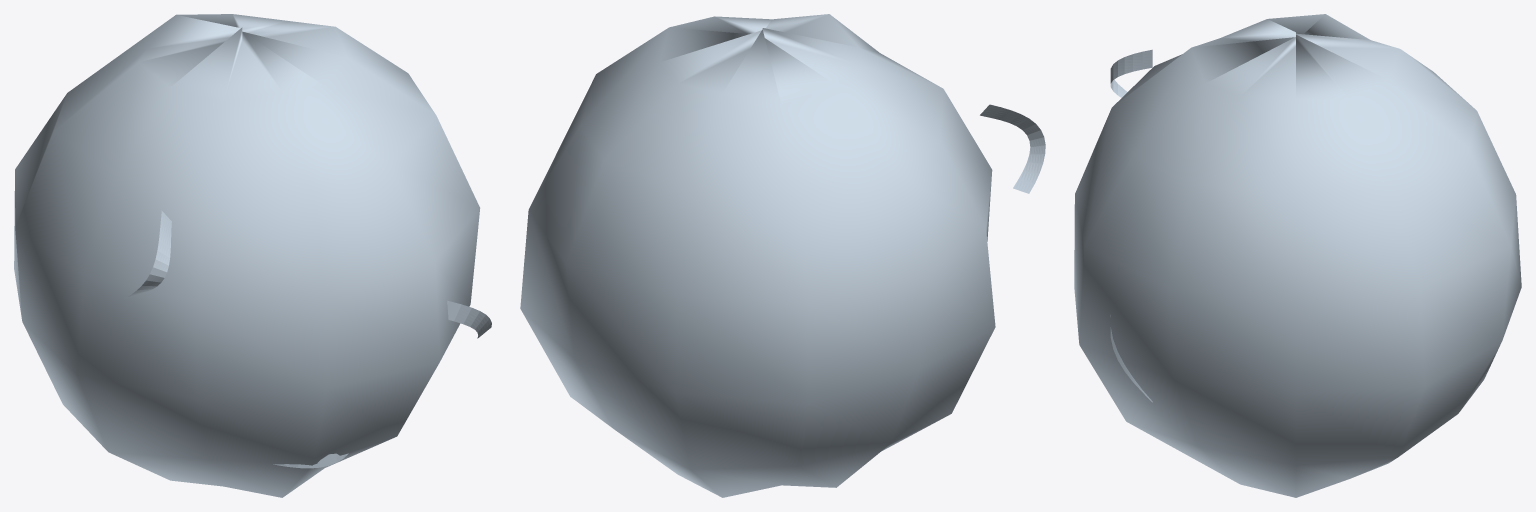
Rendered from 2033_FrostCannon_Projectile.fbx.
The picture shows the model from 3 angles, left to right: view 1: azimuth 30°, elevation 25°; view 2: azimuth 150°, elevation 25°; view 3: azimuth 270°, elevation 25°; orthographic projection. The views are drawn at different scales.
Parts seen in each view (by area): view 1: PART_FrostCannonRoundedFacetedIce, PART_FrostCannonColdEdge1, PART_FrostCannonColdEdge0; view 2: PART_FrostCannonRoundedFacetedIce, PART_FrostCannonColdEdge1; view 3: PART_FrostCannonRoundedFacetedIce, PART_FrostCannonColdEdge1.
Boxes of the visible parts, <box> form: PART_FrostCannonRoundedFacetedIce: <box>14,14,480,497</box>; PART_FrostCannonColdEdge1: <box>123,210,171,299</box>; PART_FrostCannonColdEdge0: <box>447,300,491,338</box>; PART_FrostCannonRoundedFacetedIce: <box>520,14,995,497</box>; PART_FrostCannonColdEdge1: <box>980,104,1045,193</box>; PART_FrostCannonRoundedFacetedIce: <box>1074,14,1521,497</box>; PART_FrostCannonColdEdge1: <box>1110,49,1152,97</box>.
Size of the model in its own units: 53.44 by 57.92 by 53.04.
